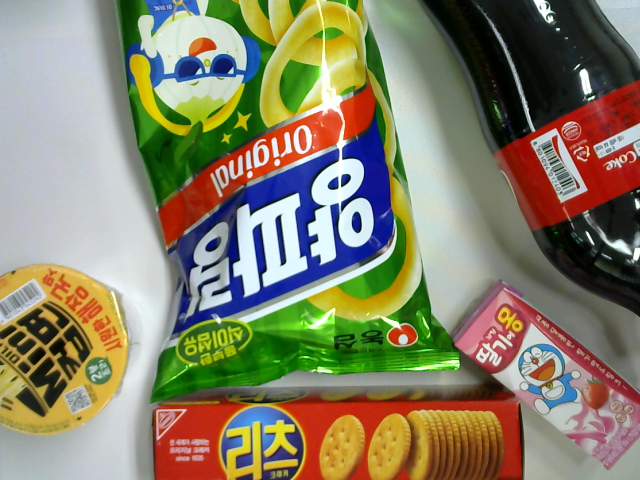Coca_Cola_1.5L: (415, 1, 639, 323)
Hejangmini: (1, 261, 132, 428)
Oninon_Ring: (103, 1, 466, 404)
Ritz_Cracker: (148, 380, 536, 480)
Strawberry_E_Mong: (451, 274, 640, 473)
